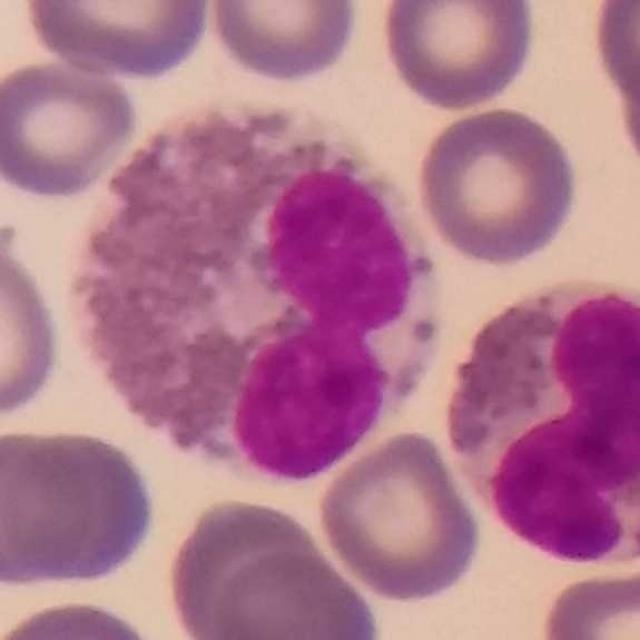eosino: (70, 100, 443, 481), (446, 277, 640, 568)
